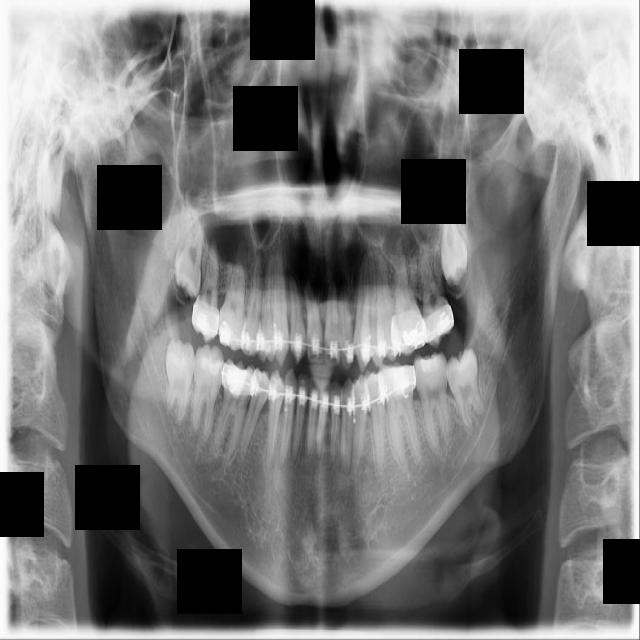3M ESPE Implant: (171, 198, 207, 303)
52: (220, 358, 258, 407), (412, 351, 450, 396), (193, 344, 223, 383)
73: (588, 574, 596, 584)
BioHorizons Implant: (413, 236, 457, 349)
BioLife Implant: (440, 207, 467, 287)
Biomet 3i Implant: (443, 345, 485, 430)
Blue Sky Bio Implant: (412, 350, 452, 450)
Caries: (191, 232, 221, 344)
Implant: (192, 344, 224, 437)
Keystone Dental Implant: (163, 338, 196, 424)
